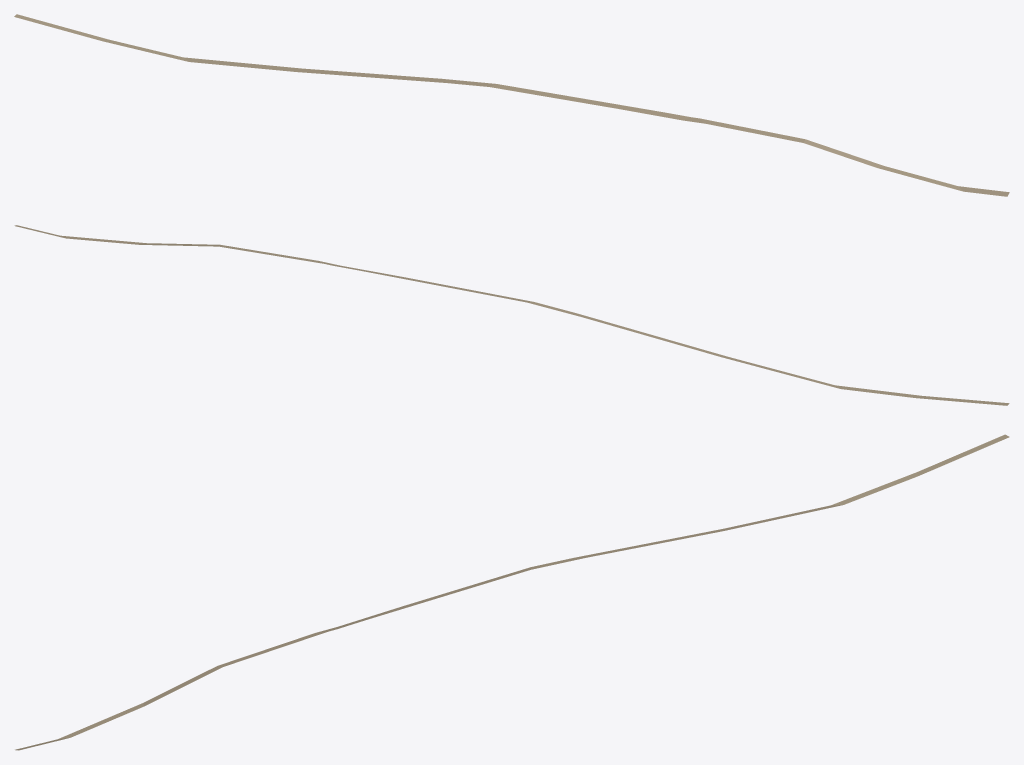
File: farm_-30_-29_track.glb
3 renders of one model, top to bottom at view 1: azimuth 30°, elevation 25°; view 2: azimuth 210°, elevation 25°; view 3: azimuth 270°, elevation 25°, orthographic. The views are drawn at different scales.
Parts seen in each view (by area): view 1: geometry_0; view 2: geometry_0; view 3: geometry_0.
Part boxes in pixels (x1,y1,x2,y2): geometry_0: (14, 14, 1009, 196); geometry_0: (14, 225, 1009, 405); geometry_0: (15, 434, 1009, 750).
Bounding box in the file's own units: 310 × 17.02 × 412.
